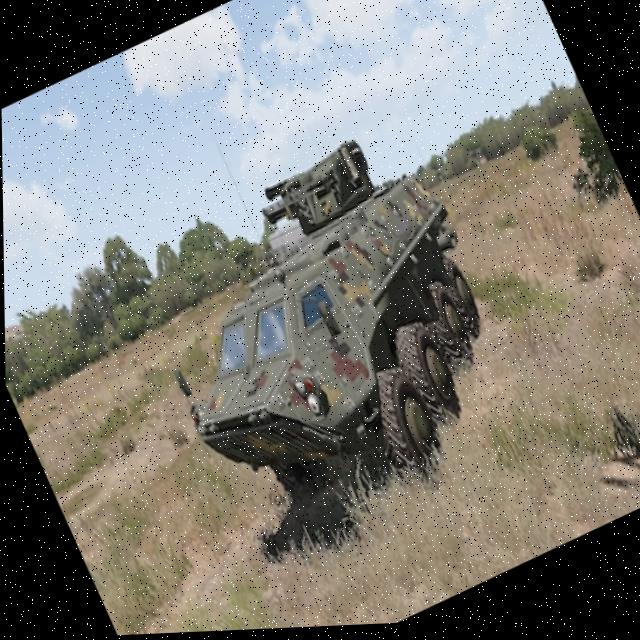MIL_APC: (120, 123, 544, 566)
